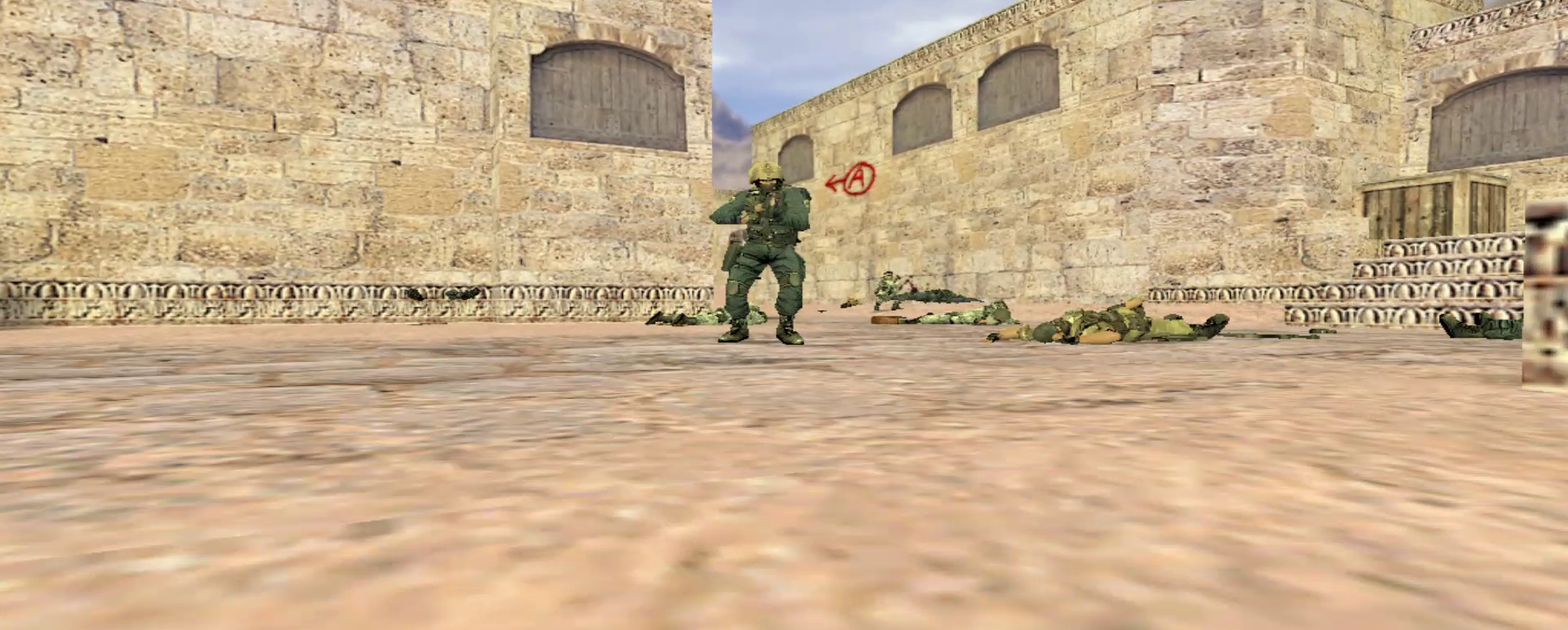counter: (720, 188, 809, 346)
counter_head: (747, 160, 785, 192)
